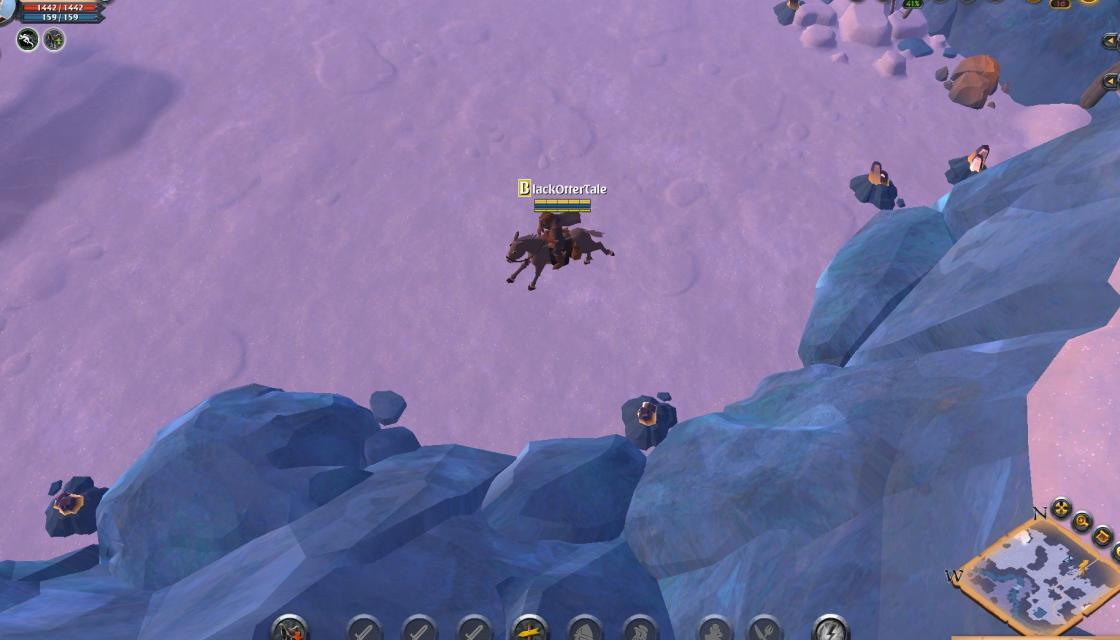copperore: (43, 474, 106, 538), (620, 387, 682, 449), (854, 156, 906, 212), (939, 141, 993, 182), (772, 0, 810, 26)
limestone: (940, 51, 1002, 106)
